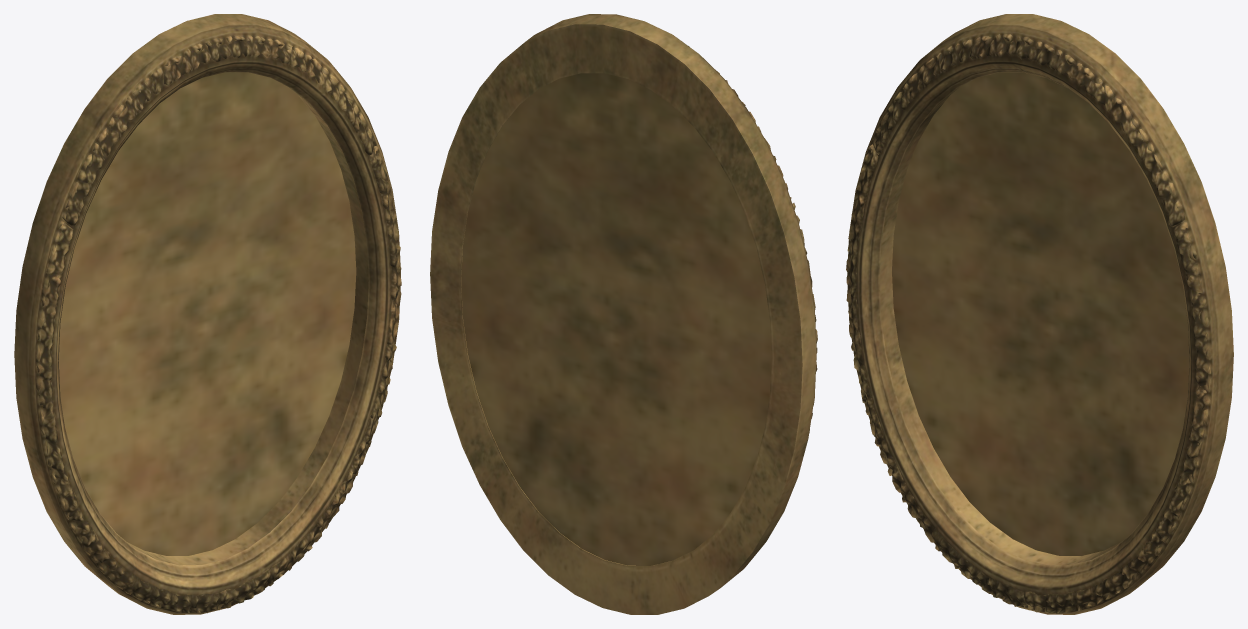
Rendered from frame01.glb.
3 views of the same model, side by side, from view 1: azimuth 30°, elevation 25°; view 2: azimuth 150°, elevation 25°; view 3: azimuth 330°, elevation 25° (orthographic).
Parts seen in each view (by area): view 1: Frame_horror eyes painting_0; view 2: Frame_horror eyes painting_0; view 3: Frame_horror eyes painting_0.
Boxes of the visible parts, left/top/right/bottom form: Frame_horror eyes painting_0: left=14, top=14, right=401, bottom=614; Frame_horror eyes painting_0: left=430, top=14, right=817, bottom=614; Frame_horror eyes painting_0: left=846, top=14, right=1233, bottom=614.
Bounding box in the file's own units: 0.3411 × 0.5105 × 0.0379.
Materials: 1 (1 with a texture image).
